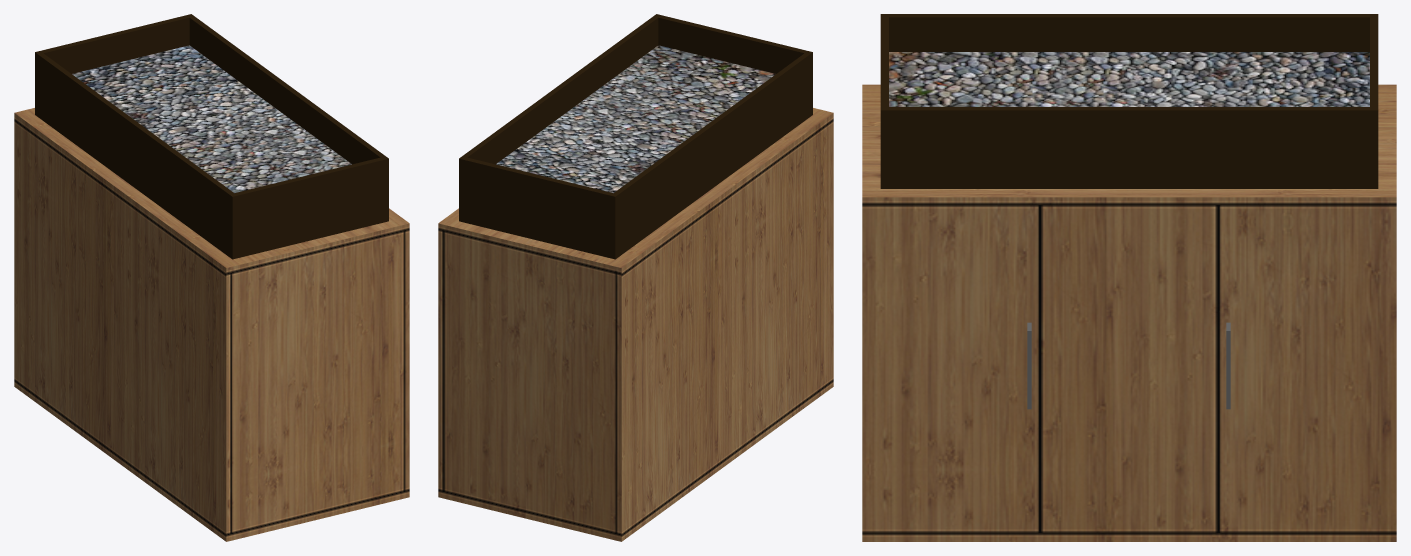
File: cabinet cum plant pot.FBX
3 renders of one model, left to right at view 1: azimuth 30°, elevation 25°; view 2: azimuth 150°, elevation 25°; view 3: azimuth 270°, elevation 25°, orthographic. The views are drawn at different scales.
Parts seen in each view (by area): view 1: cabinet cum plant pot; view 2: cabinet cum plant pot; view 3: cabinet cum plant pot.
Boxes of the visible parts, <box> form: cabinet cum plant pot: <box>14,14,409,541</box>; cabinet cum plant pot: <box>438,14,833,541</box>; cabinet cum plant pot: <box>862,14,1396,541</box>.
Bounding box in the file's own units: 22.5 × 41.94 × 36.7.
1 material, 1 textured.
